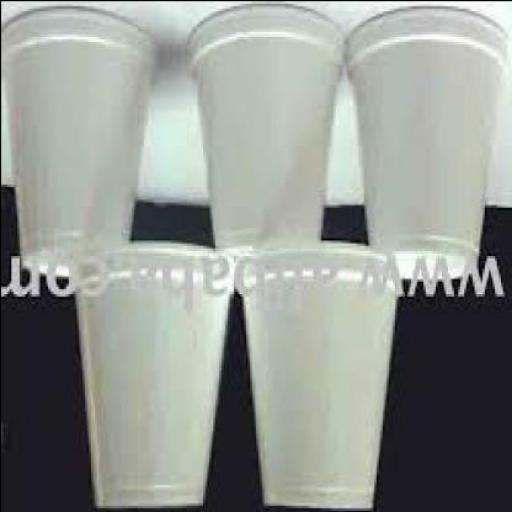paper: (346, 8, 508, 280), (78, 244, 242, 510), (238, 248, 404, 510), (2, 12, 153, 283), (186, 2, 347, 255)
